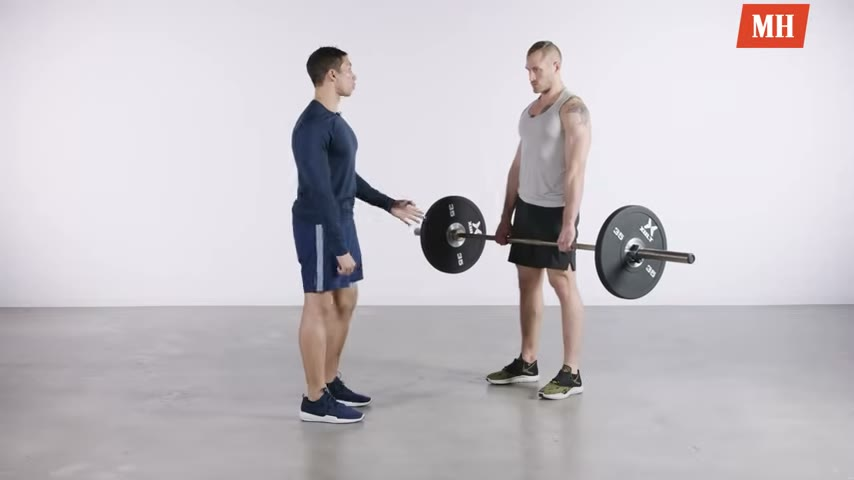barbell_plate_side: (620, 192, 698, 303)
